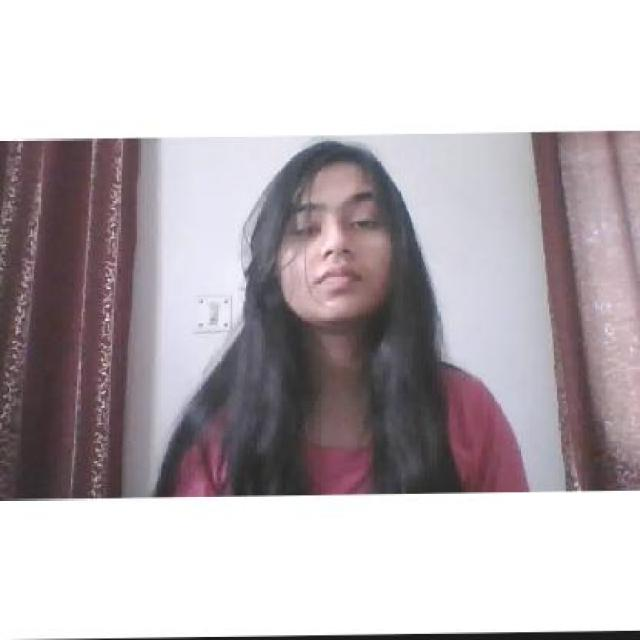attentif: (276, 142, 395, 324)
